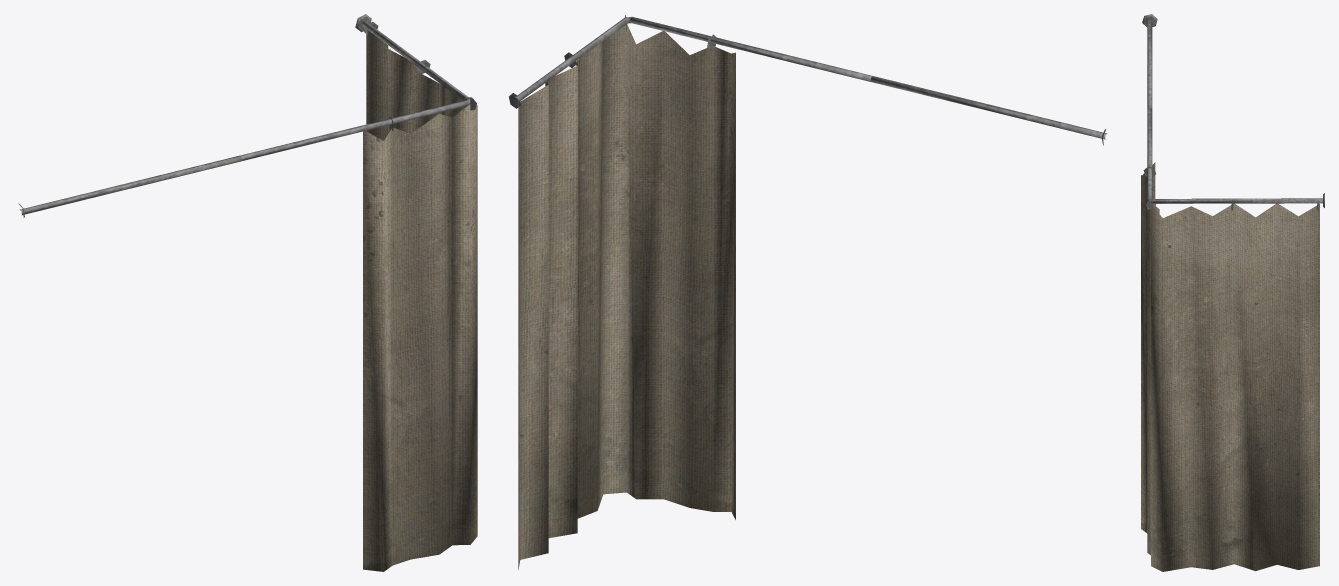
File: Prop_Yl01_lod1.glb
3 views of the same model, side by side, from view 1: azimuth 30°, elevation 25°; view 2: azimuth 150°, elevation 25°; view 3: azimuth 270°, elevation 25° (orthographic). The views are drawn at different scales.
Parts seen in each view (by area): view 1: xiutz_yl_01_lod1; view 2: xiutz_yl_01_lod1; view 3: xiutz_yl_01_lod1.
Boxes of the visible parts, box(x1,y1,x2,y2) form: xiutz_yl_01_lod1: box(18, 14, 477, 571); xiutz_yl_01_lod1: box(509, 15, 1107, 569); xiutz_yl_01_lod1: box(1141, 14, 1324, 571).
Size of the model in its own units: 3.78 by 3.51 by 1.57.
1 material, 1 textured.
